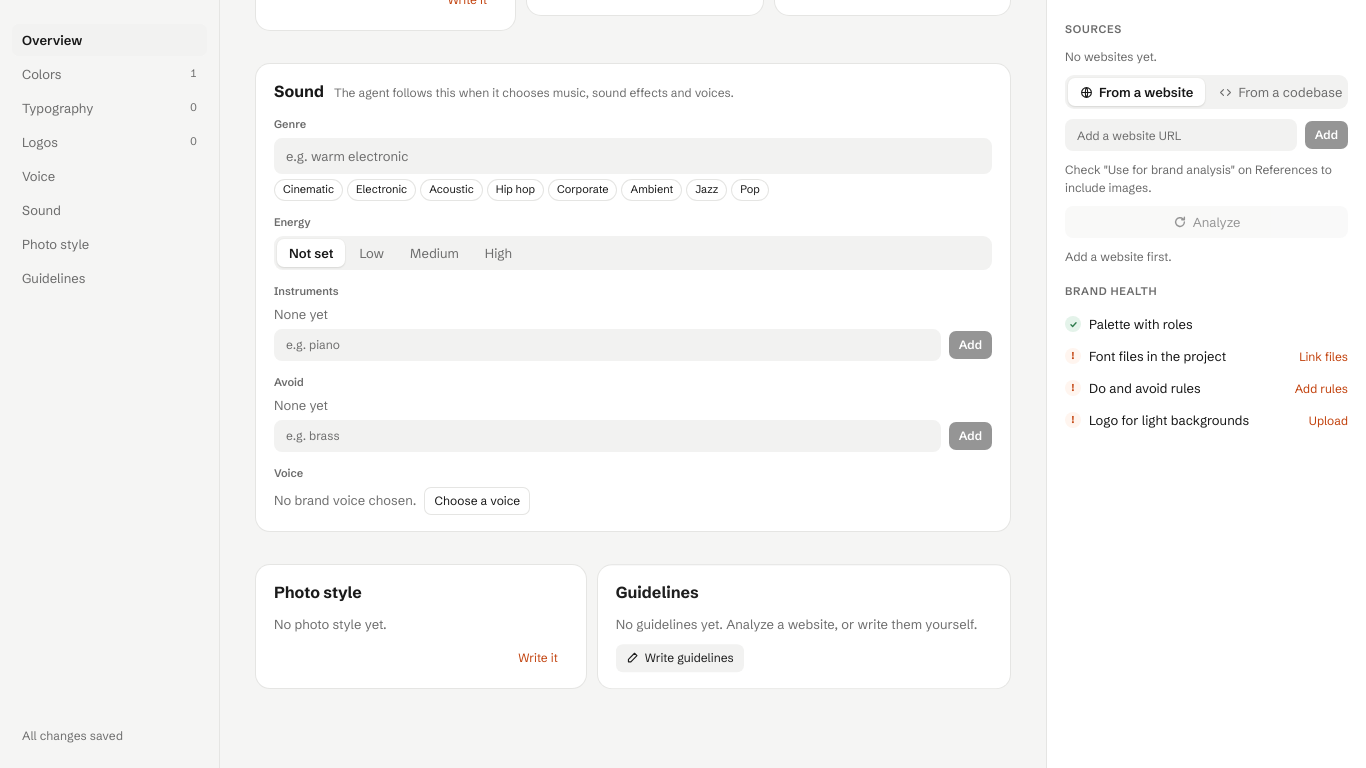
Scenario: Brand · voice picker › plays the preview only from the core URL, one at a time, and never fetches a third-party URL
The image size is (1366, 768).
(page scrolled)
Click the button "Choose a voice".
click(477, 501)  # box [424,487,530,515]
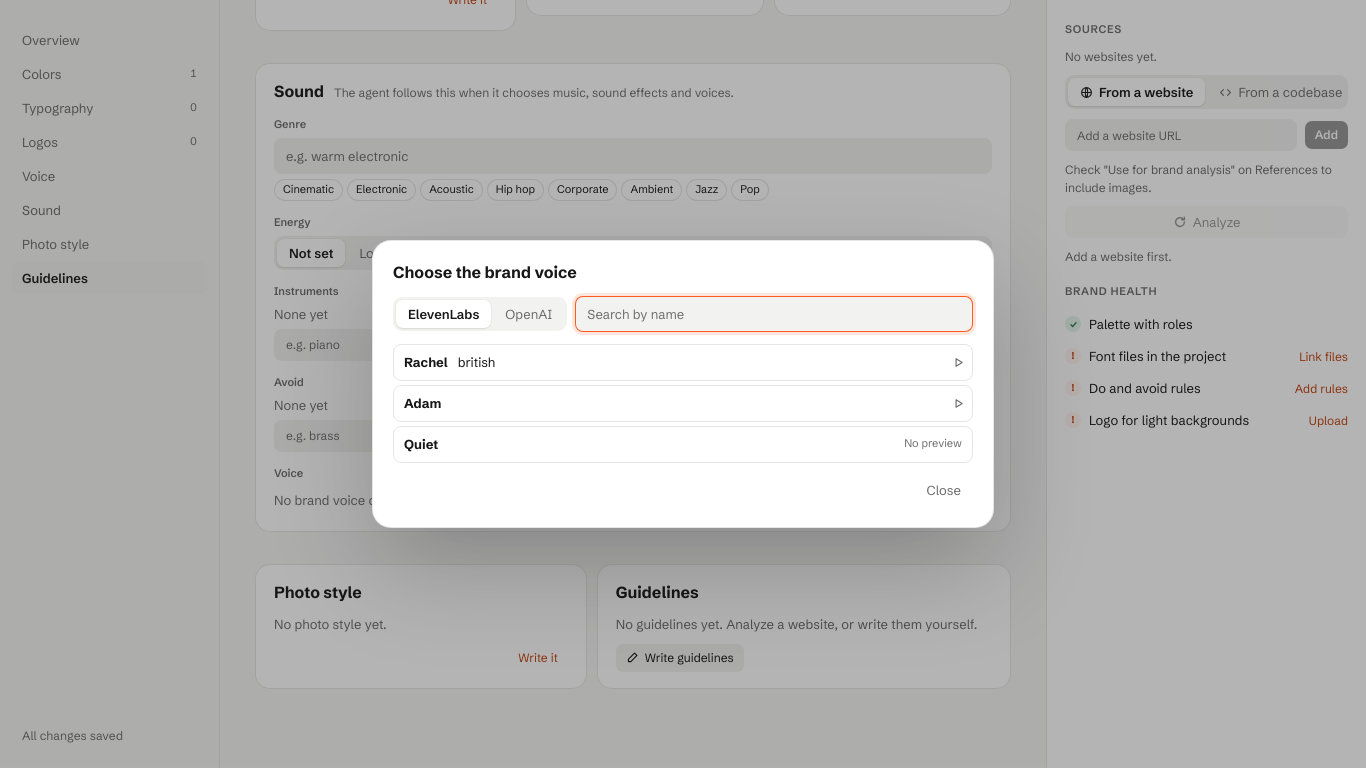
Click the button named "Play preview of Rachel".
click(958, 363)  # box [944,349,972,377]
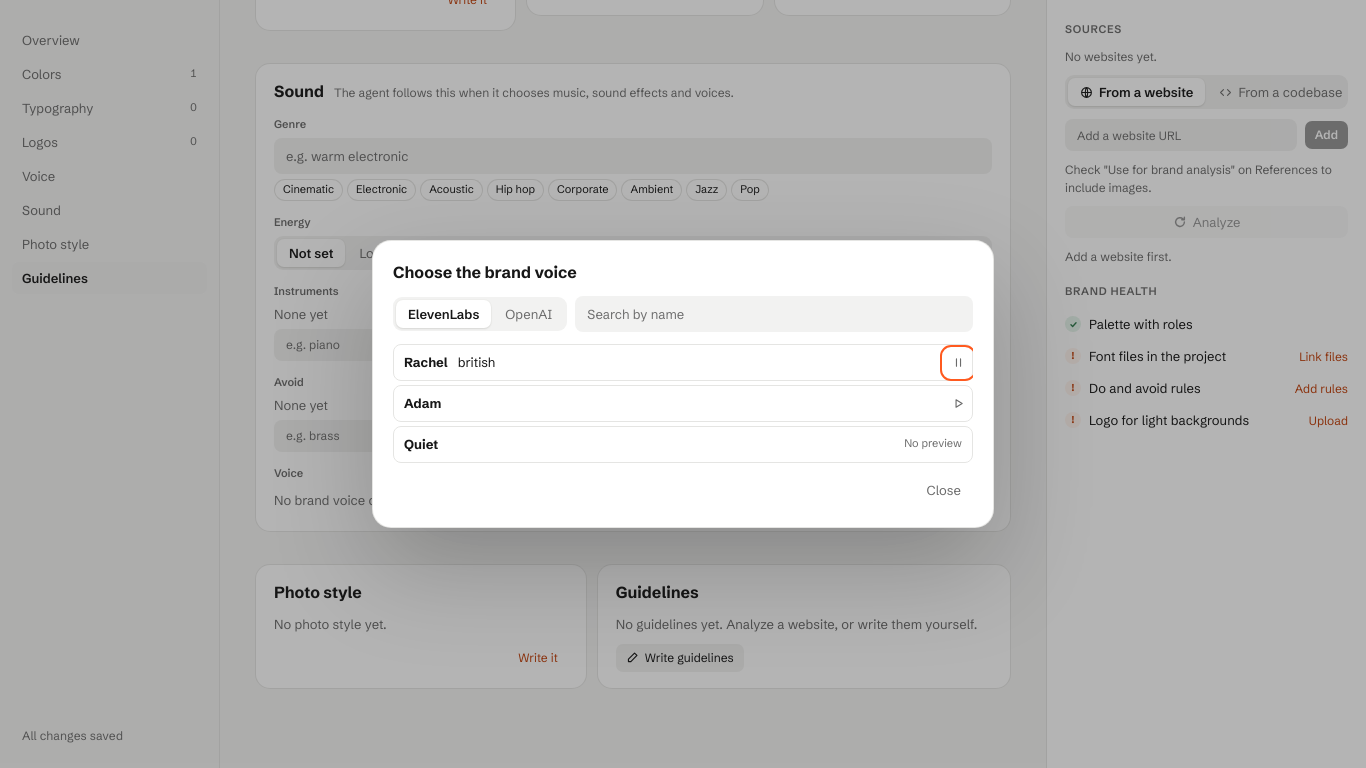
Click the button named "Play preview of Adam".
click(958, 404)  # box [944,390,972,418]
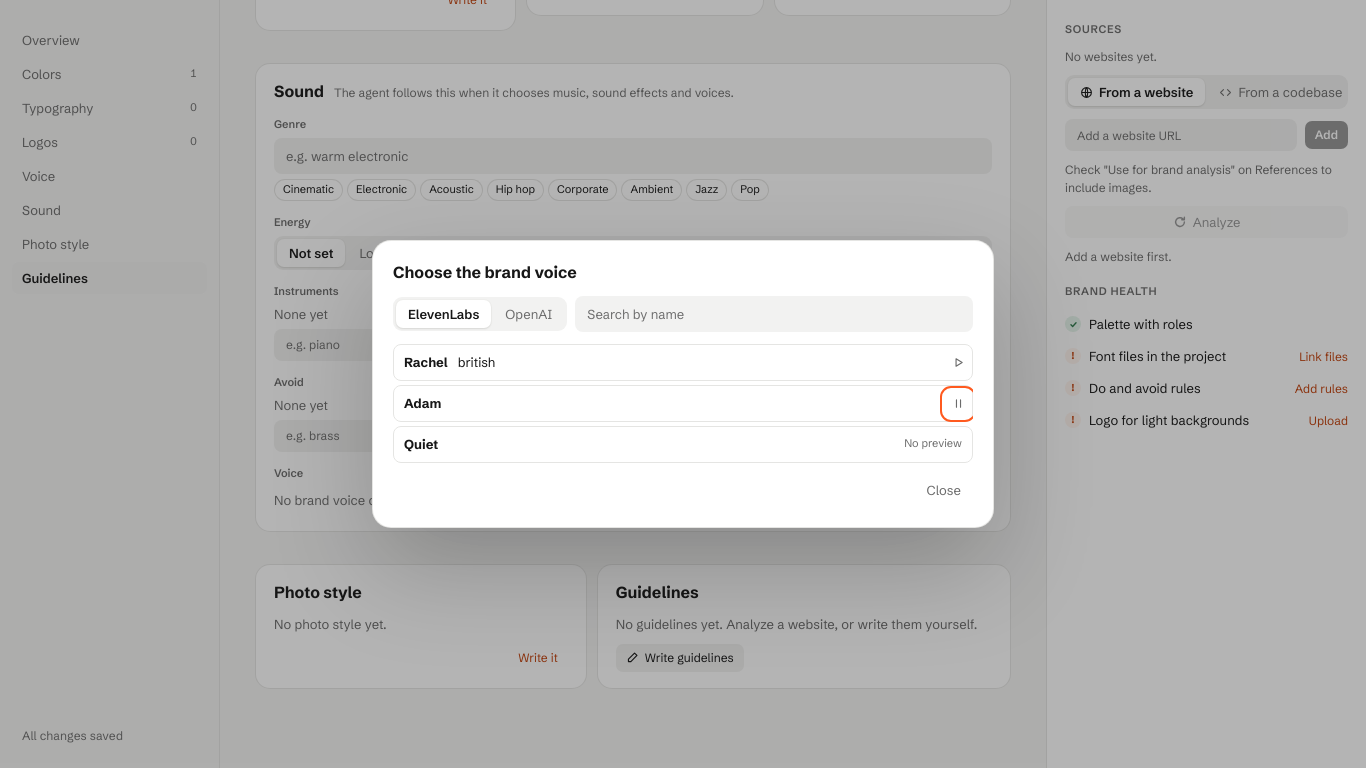
Expected: the button named "Stop preview of Adam" is shown
Click the button named "Stop preview of Adam".
click(958, 404)  # box [944,390,972,418]
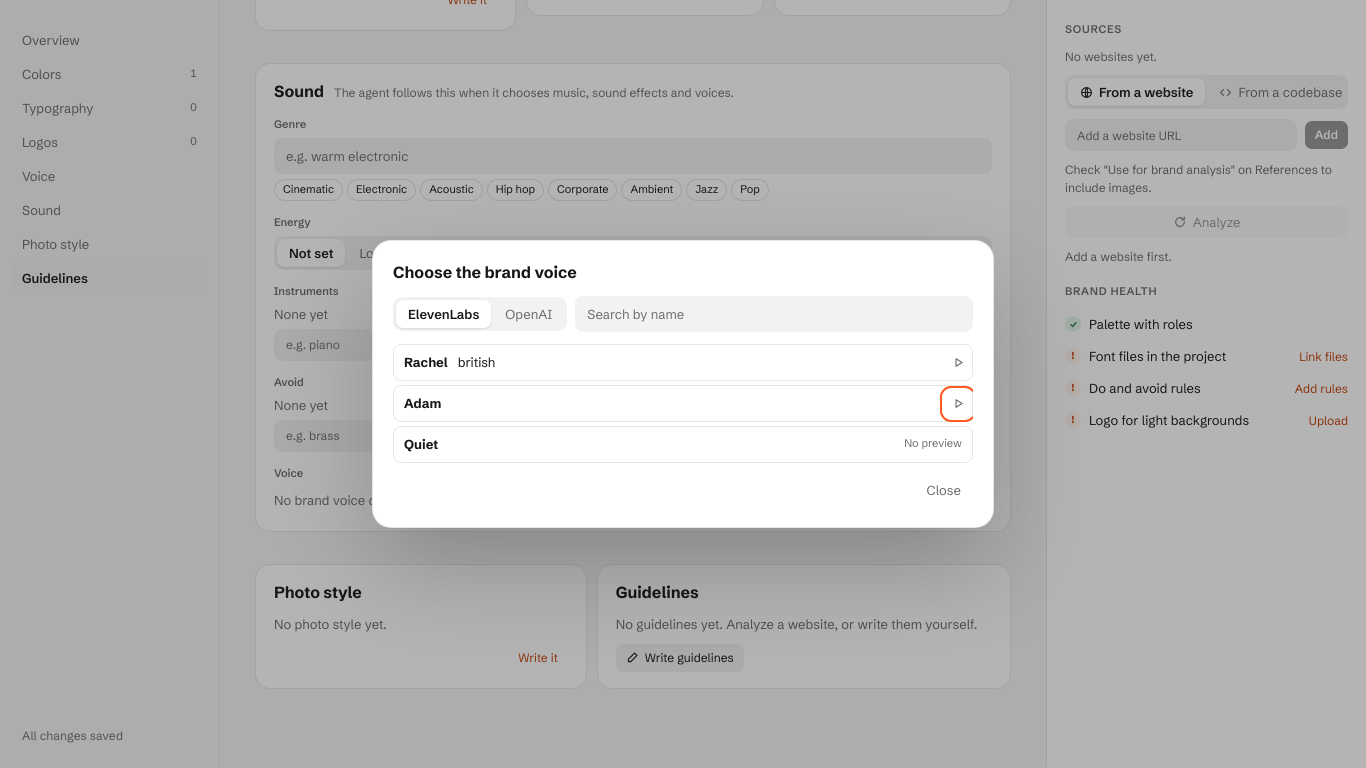
Expected: the text "No preview" is shown, [904,436,972,452]
Expected: the button named "Play preview of Adam" is shown, [944,390,972,418]
